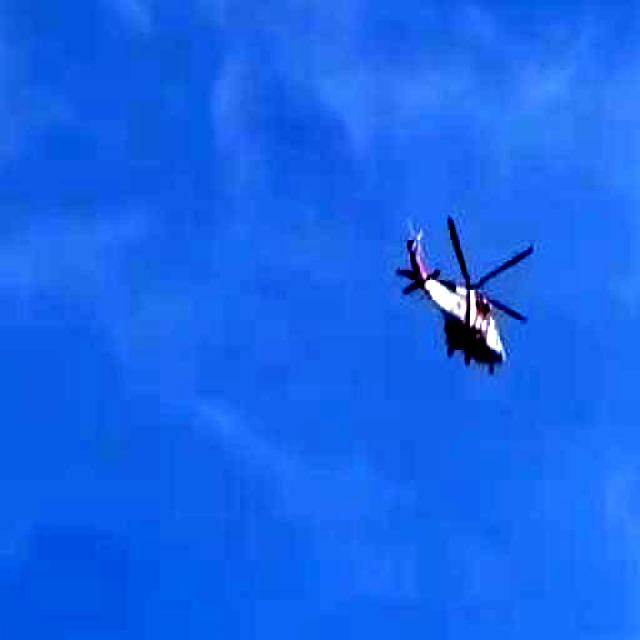drone: (378, 196, 559, 400)
